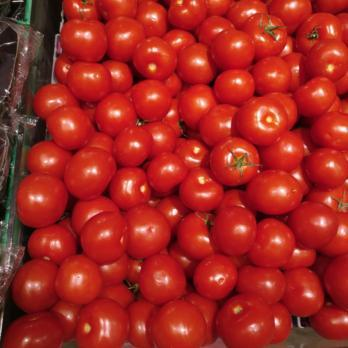Tomato: (60, 2, 348, 348), (13, 148, 67, 348)
